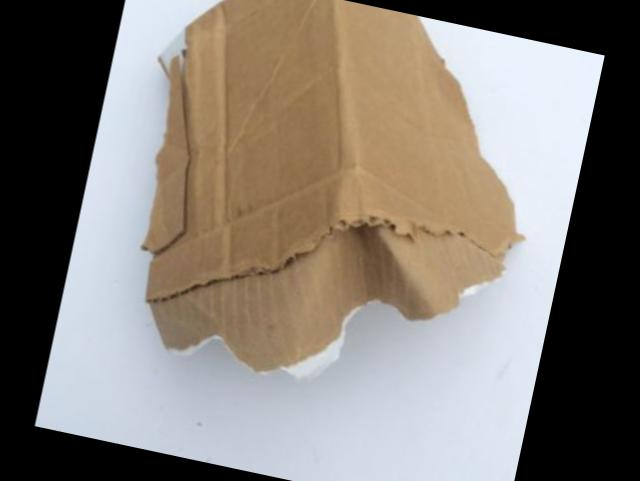cardboard paper: (148, 0, 525, 369)
